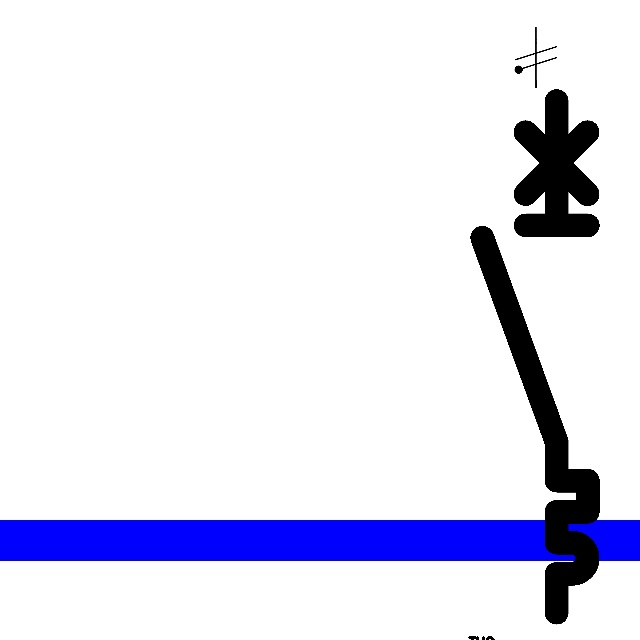interruptor_termomagnetico: (469, 87, 601, 625)
